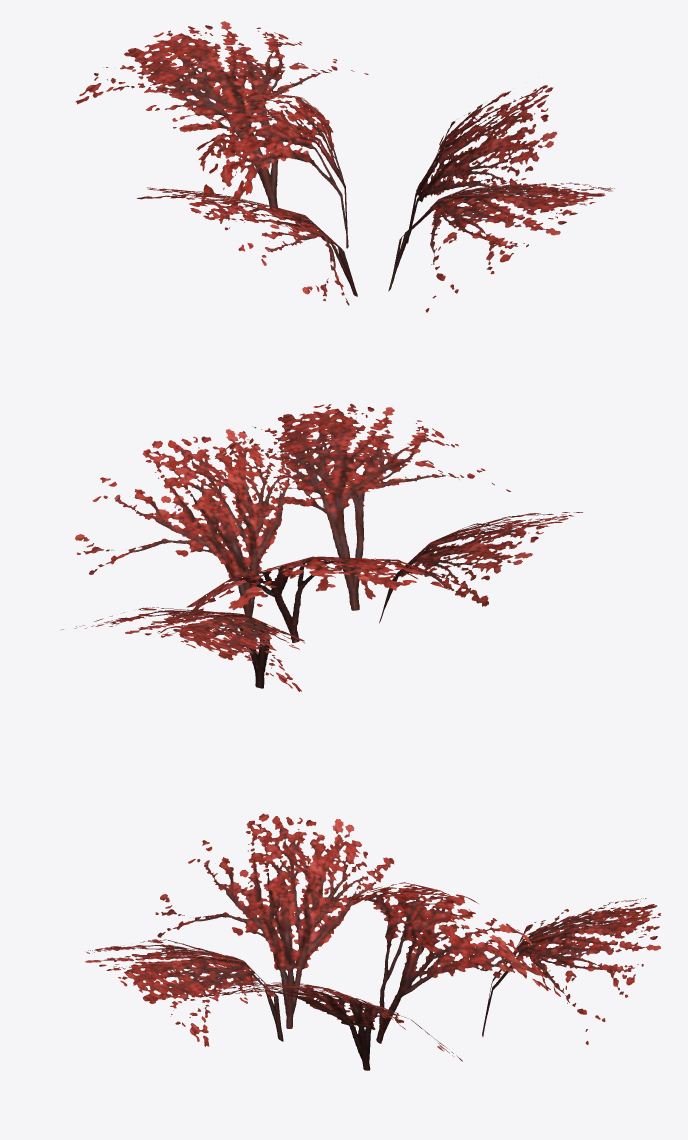
File: SM_EN_Bush_2.fbx
3 renders of one model, top to bottom at view 1: azimuth 30°, elevation 25°; view 2: azimuth 150°, elevation 25°; view 3: azimuth 270°, elevation 25°, orthographic. The views are drawn at different scales.
Visible parts, largest first — view 1: SM_EN_Bush_2; view 2: SM_EN_Bush_2; view 3: SM_EN_Bush_2.
Part boxes in pixels (box(x1,y1,x2,y2)): SM_EN_Bush_2: box(75, 21, 614, 312); SM_EN_Bush_2: box(60, 403, 582, 691); SM_EN_Bush_2: box(85, 813, 660, 1070).
Size of the model in its own units: 387 by 346 by 109.
